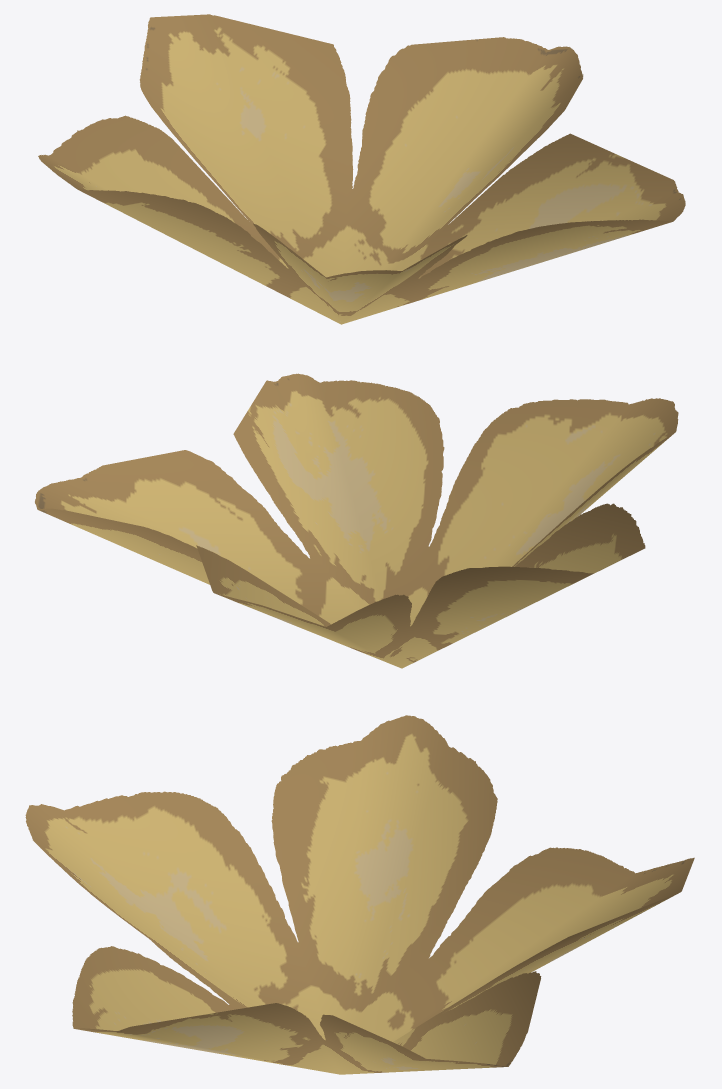
Rendered from Petal_5__go_village.glb.
3 views of the same model, one above another, from view 1: azimuth 30°, elevation 25°; view 2: azimuth 150°, elevation 25°; view 3: azimuth 270°, elevation 25° (orthographic). The views are drawn at different scales.
Parts seen in each view (by area): view 1: Petal_5; view 2: Petal_5; view 3: Petal_5.
Boxes of the visible parts, left/top/right/bottom form: Petal_5: left=38, top=14, right=685, bottom=324; Petal_5: left=35, top=373, right=678, bottom=668; Petal_5: left=25, top=715, right=694, bottom=1074.
Bounding box in the file's own units: 0.834 × 0.2888 × 0.7952.
Materials: 1 (1 with a texture image).
